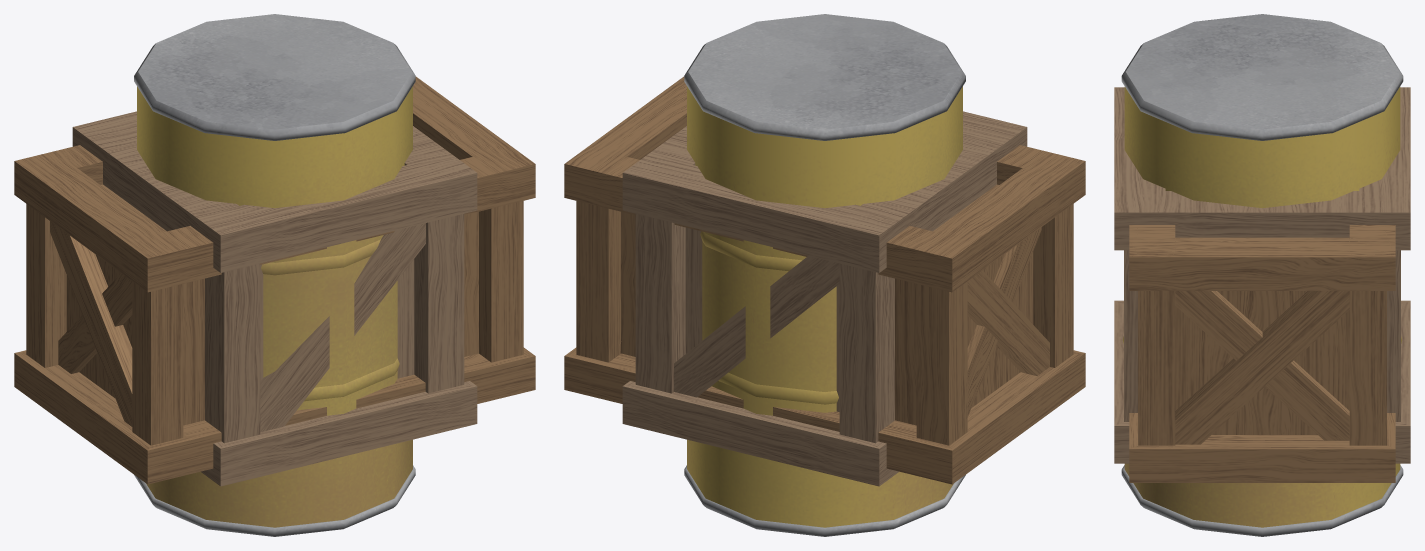
File: obj_treasure.fbx
3 renders of one model, left to right at view 1: azimuth 30°, elevation 25°; view 2: azimuth 150°, elevation 25°; view 3: azimuth 270°, elevation 25°, orthographic.
Parts seen in each view (by area): view 1: drum, crate_2, crate_1; view 2: drum, crate_2, crate_1; view 3: crate_2, drum, crate_1.
Part boxes in pixels (x1,y1,x2,y2): drum: (134, 14, 415, 536); crate_2: (14, 76, 535, 484); crate_1: (72, 111, 477, 486); drum: (684, 14, 965, 536); crate_2: (564, 76, 1085, 484); crate_1: (622, 111, 1027, 486); crate_2: (1129, 225, 1395, 482); drum: (1121, 14, 1403, 536); crate_1: (1114, 87, 1410, 463).
Size of the model in its own units: 0.4597 by 0.4613 by 0.3041.
Materials: 1 (1 with a texture image).
